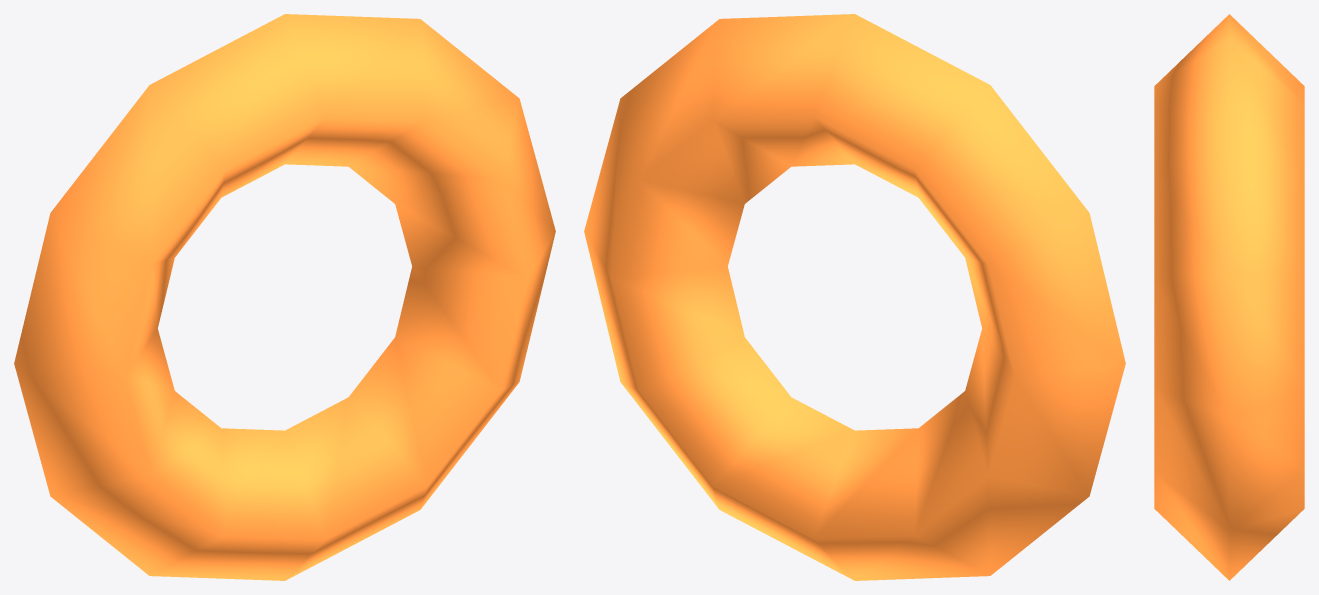
Rendered from hook_001.glb.
The picture shows the model from 3 angles, left to right: view 1: azimuth 30°, elevation 25°; view 2: azimuth 150°, elevation 25°; view 3: azimuth 270°, elevation 25°; orthographic projection. The views are drawn at different scales.
Parts seen in each view (by area): view 1: hook_001; view 2: hook_001; view 3: hook_001.
Part boxes in pixels (x1,y1,x2,y2): hook_001: (14, 14, 555, 580); hook_001: (584, 14, 1125, 580); hook_001: (1154, 14, 1304, 580).
Bounding box in the file's own units: 1.01 × 1.01 × 0.2683.
Materials: 1 (1 with a texture image).
